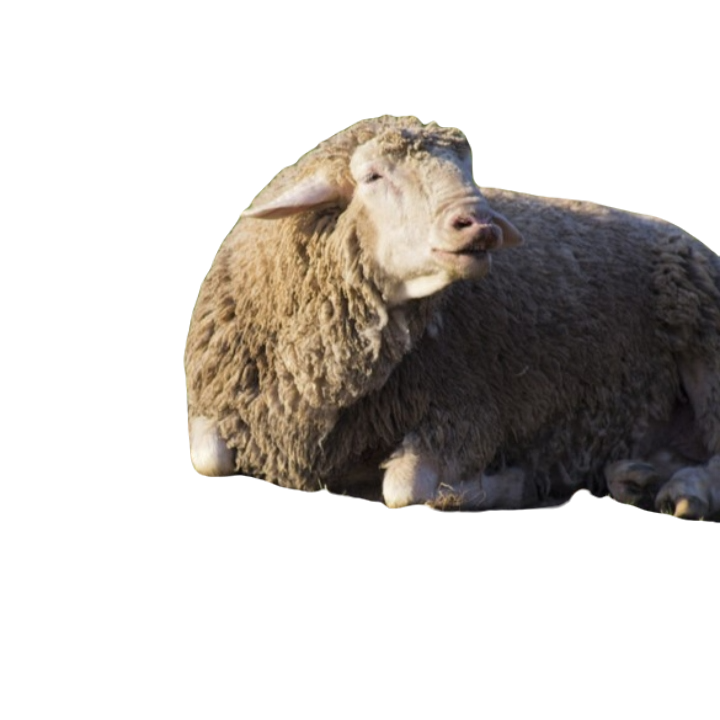Sheep: (178, 112, 719, 523)
